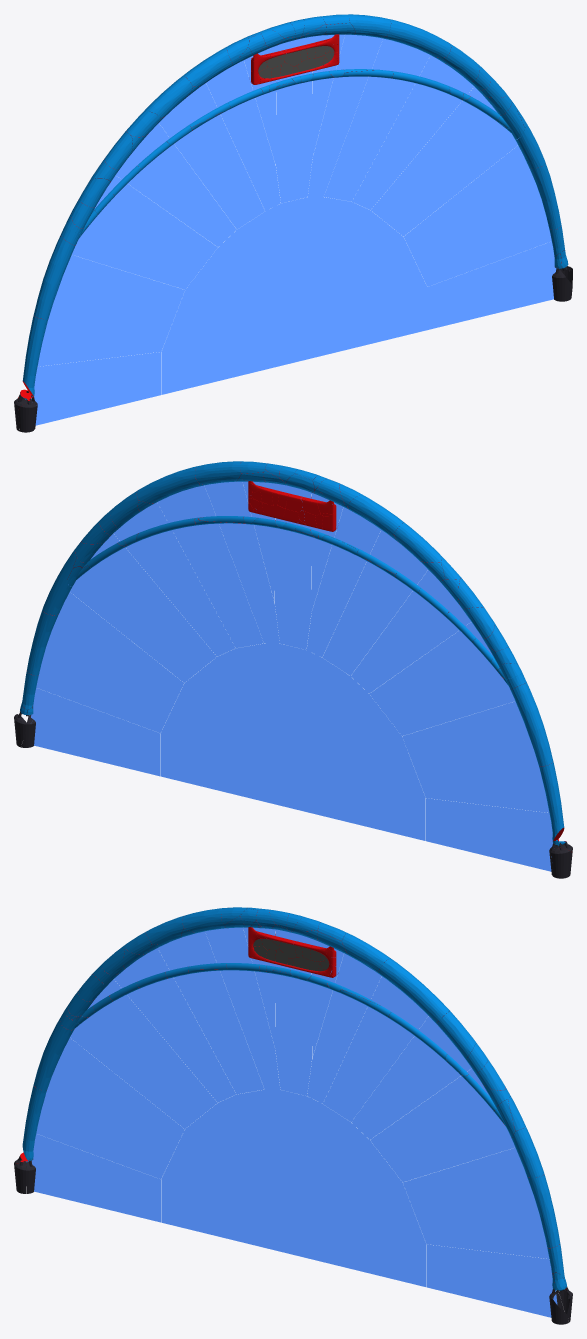
The model's file is Checkpoint_Fractured.fbx.
3 views of the same model, one above another, from view 1: azimuth 30°, elevation 25°; view 2: azimuth 150°, elevation 25°; view 3: azimuth 330°, elevation 25° (orthographic).
Parts seen in each view (by area): view 1: Transparent_cell.001, Transparent_cell.010, Transparent_cell.003, Transparent_cell.011, Transparent_cell.004, Transparent_cell.009, Transparent_cell, Transparent_cell.013, Transparent_cell.006, Transparent_cell.012, Transparent_cell.005, Transparent_cell.014 (+16 smaller); view 2: Transparent_cell.001, Transparent_cell.010, Transparent_cell.003, Transparent_cell.011, Transparent_cell.004, Transparent_cell.009, Transparent_cell, Transparent_cell.013, Transparent_cell.006, Transparent_cell.012, Transparent_cell.005, Transparent_cell.014 (+15 smaller); view 3: Transparent_cell.001, Transparent_cell.003, Transparent_cell.010, Transparent_cell.004, Transparent_cell.011, Transparent_cell, Transparent_cell.009, Transparent_cell.006, Transparent_cell.013, Transparent_cell.005, Transparent_cell.012, Transparent_cell.007 (+14 smaller).
Part boxes in pixels (left/top/right/bottom): Transparent_cell.001: left=161, top=197, right=427, bottom=394; Transparent_cell.010: left=404, top=145, right=551, bottom=286; Transparent_cell.003: left=37, top=255, right=184, bottom=366; Transparent_cell.011: left=371, top=87, right=518, bottom=236; Transparent_cell.004: left=72, top=175, right=217, bottom=289; Transparent_cell.009: left=427, top=241, right=556, bottom=329; Transparent_cell: left=31, top=352, right=161, bottom=425; Transparent_cell.013: left=323, top=38, right=430, bottom=201; Transparent_cell.006: left=159, top=83, right=264, bottom=229; Transparent_cell.012: left=352, top=55, right=473, bottom=209; Transparent_cell.005: left=116, top=123, right=236, bottom=246; Transparent_cell.014: left=308, top=34, right=382, bottom=196; Transparent_cell.001: left=160, top=643, right=425, bottom=840; Transparent_cell.010: left=36, top=592, right=183, bottom=733; Transparent_cell.003: left=402, top=701, right=549, bottom=812; Transparent_cell.011: left=68, top=533, right=216, bottom=682; Transparent_cell.004: left=369, top=622, right=515, bottom=735; Transparent_cell.009: left=31, top=688, right=160, bottom=776; Transparent_cell: left=426, top=798, right=552, bottom=871; Transparent_cell.013: left=157, top=485, right=263, bottom=648; Transparent_cell.006: left=322, top=530, right=428, bottom=675; Transparent_cell.012: left=113, top=502, right=235, bottom=656; Transparent_cell.005: left=350, top=570, right=471, bottom=693; Transparent_cell.014: left=204, top=481, right=279, bottom=643; Transparent_cell.001: left=161, top=1089, right=426, bottom=1286; Transparent_cell.003: left=36, top=1038, right=184, bottom=1179; Transparent_cell.010: left=403, top=1147, right=549, bottom=1258; Transparent_cell.004: left=70, top=979, right=217, bottom=1128; Transparent_cell.011: left=370, top=1068, right=515, bottom=1182; Transparent_cell: left=31, top=1134, right=160, bottom=1222; Transparent_cell.009: left=426, top=1244, right=557, bottom=1317; Transparent_cell.006: left=158, top=931, right=264, bottom=1094; Transparent_cell.013: left=323, top=976, right=428, bottom=1121; Transparent_cell.005: left=114, top=948, right=236, bottom=1102; Transparent_cell.012: left=351, top=1016, right=471, bottom=1139; Transparent_cell.007: left=205, top=927, right=280, bottom=1089.
Size of the model in its own units: 1038 by 608 by 38.71.
